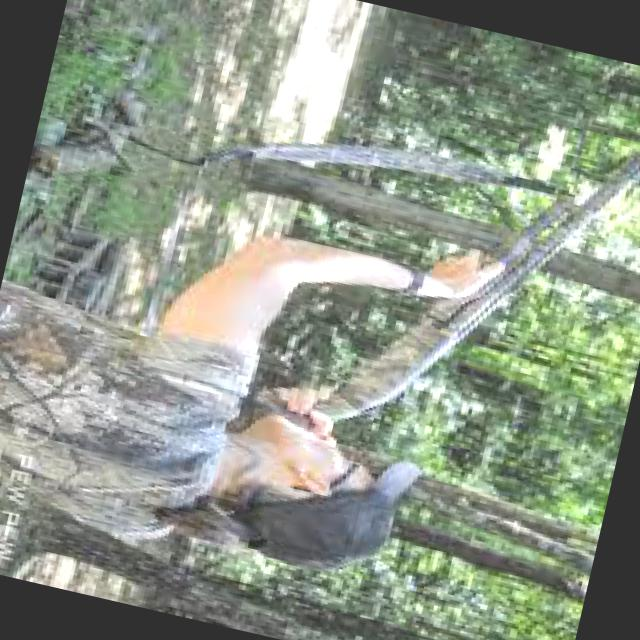long weapon: (248, 117, 640, 459)
